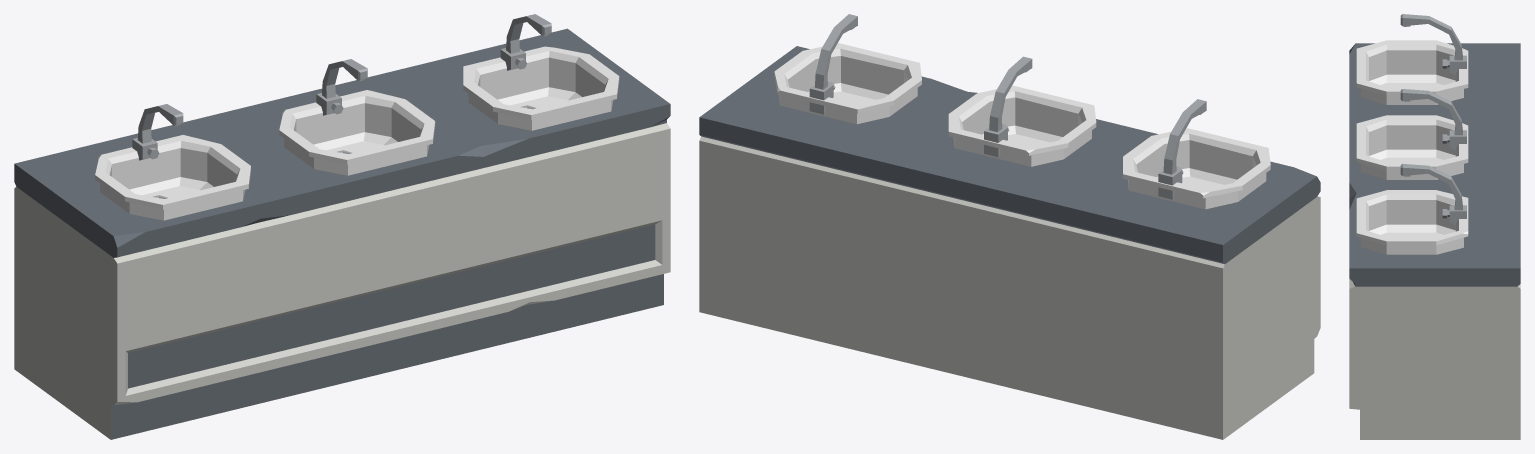
The model's file is Bathroom_Sink_01.FBX.
3 views of the same model, side by side, from view 1: azimuth 30°, elevation 25°; view 2: azimuth 150°, elevation 25°; view 3: azimuth 270°, elevation 25° (orthographic). The views are drawn at different scales.
Visible parts, largest first — view 1: Bathroom_Sink_01; view 2: Bathroom_Sink_01; view 3: Bathroom_Sink_01.
Part boxes in pixels (x1,y1,x2,y2): Bathroom_Sink_01: (14, 14, 670, 439); Bathroom_Sink_01: (699, 14, 1320, 439); Bathroom_Sink_01: (1349, 14, 1520, 439).
Bounding box in the file's own units: 250 × 123 × 80.59.
